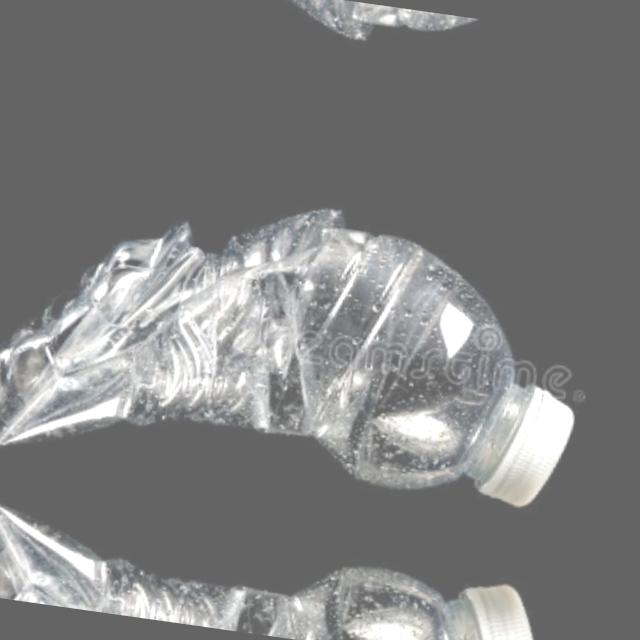Plastic: (0, 146, 633, 555), (0, 469, 587, 640), (40, 0, 640, 98)
